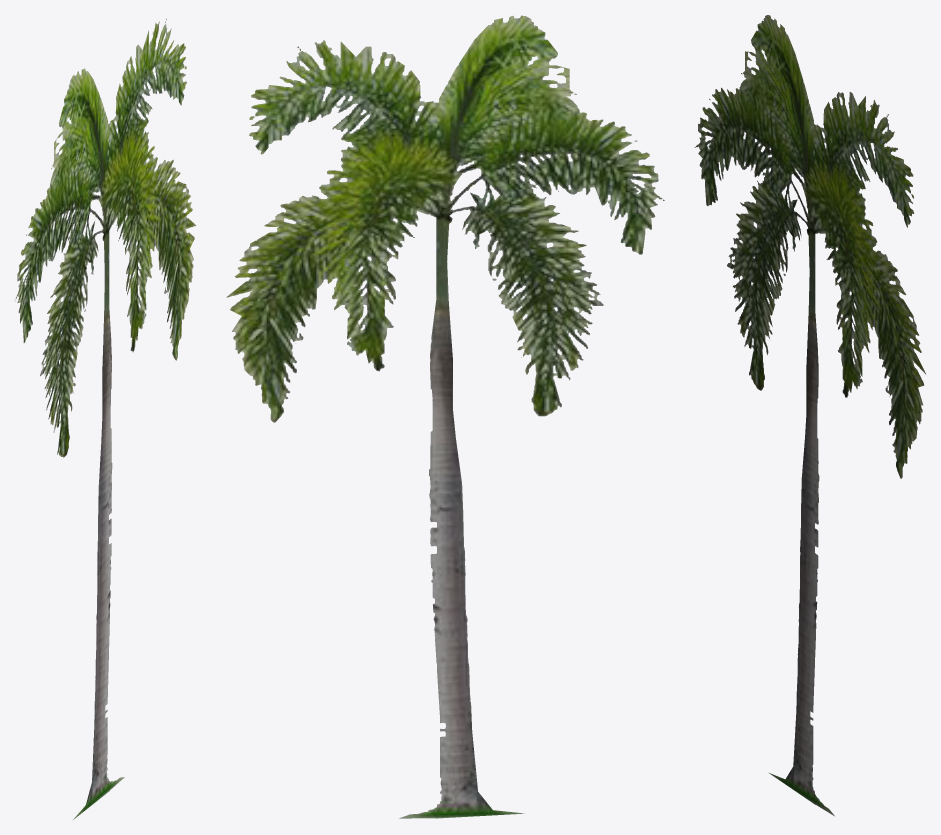
The model's file is tree2.obj.
3 renders of one model, left to right at view 1: azimuth 30°, elevation 25°; view 2: azimuth 150°, elevation 25°; view 3: azimuth 270°, elevation 25°, orthographic. The views are drawn at different scales.
Parts seen in each view (by area): view 1: Mesh1 Roystonea_regia1 Component1 Model; view 2: Mesh1 Roystonea_regia1 Component1 Model; view 3: Mesh1 Roystonea_regia1 Component1 Model.
Boxes of the visible parts, x1,y1,x2,y2 form: Mesh1 Roystonea_regia1 Component1 Model: (14, 18, 196, 820); Mesh1 Roystonea_regia1 Component1 Model: (226, 15, 664, 818); Mesh1 Roystonea_regia1 Component1 Model: (694, 15, 925, 816).
Bounding box in the file's own units: 95.14 × 229 × 63.43.
Materials: 1 (1 with a texture image).
